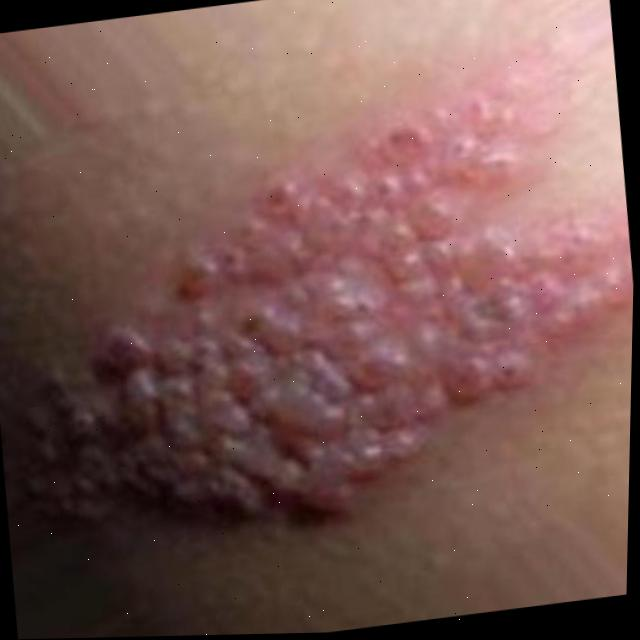Shingles: (42, 85, 638, 545)
